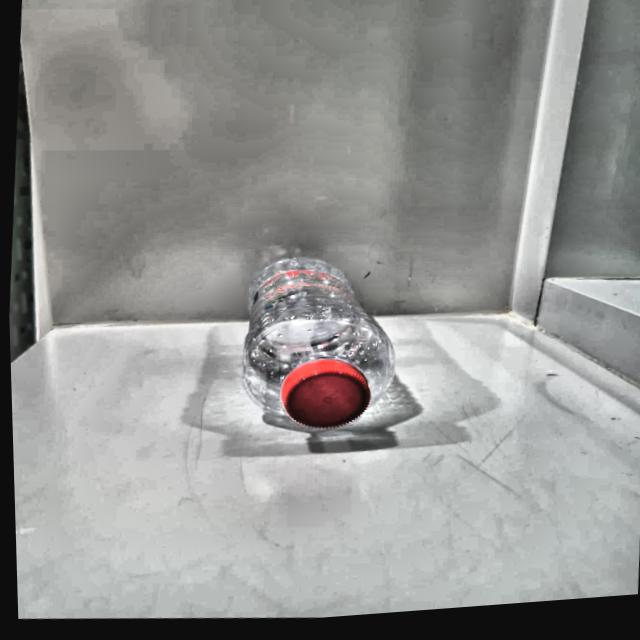Bottles: (214, 223, 409, 458)
